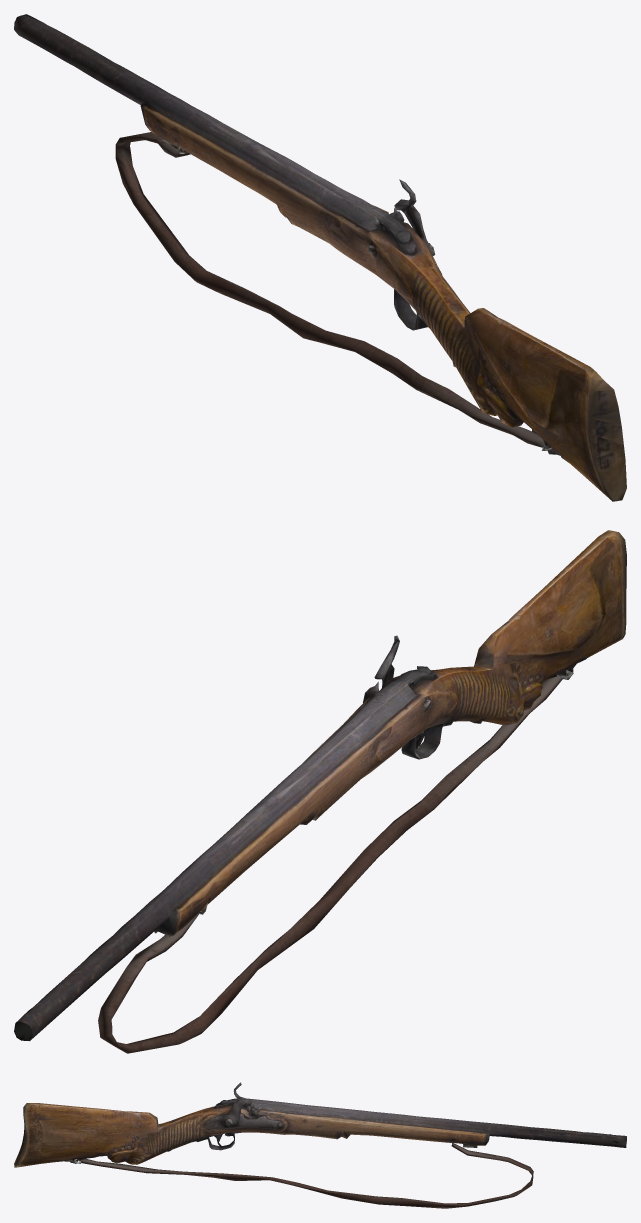
File: shotgun_lod.glb
3 views of the same model, one above another, from view 1: azimuth 30°, elevation 25°; view 2: azimuth 150°, elevation 25°; view 3: azimuth 270°, elevation 25° (orthographic). The views are drawn at different scales.
Parts seen in each view (by area): view 1: E_2707_MT_mk3; view 2: E_2707_MT_mk3; view 3: E_2707_MT_mk3.
Boxes of the visible parts, box(x1,y1,x2,y2) form: E_2707_MT_mk3: box(14, 14, 626, 501); E_2707_MT_mk3: box(14, 530, 626, 1053); E_2707_MT_mk3: box(14, 1082, 626, 1208).
Bounding box in the file's own units: 0.0532 × 0.2322 × 1.01.
1 material, 1 textured.
